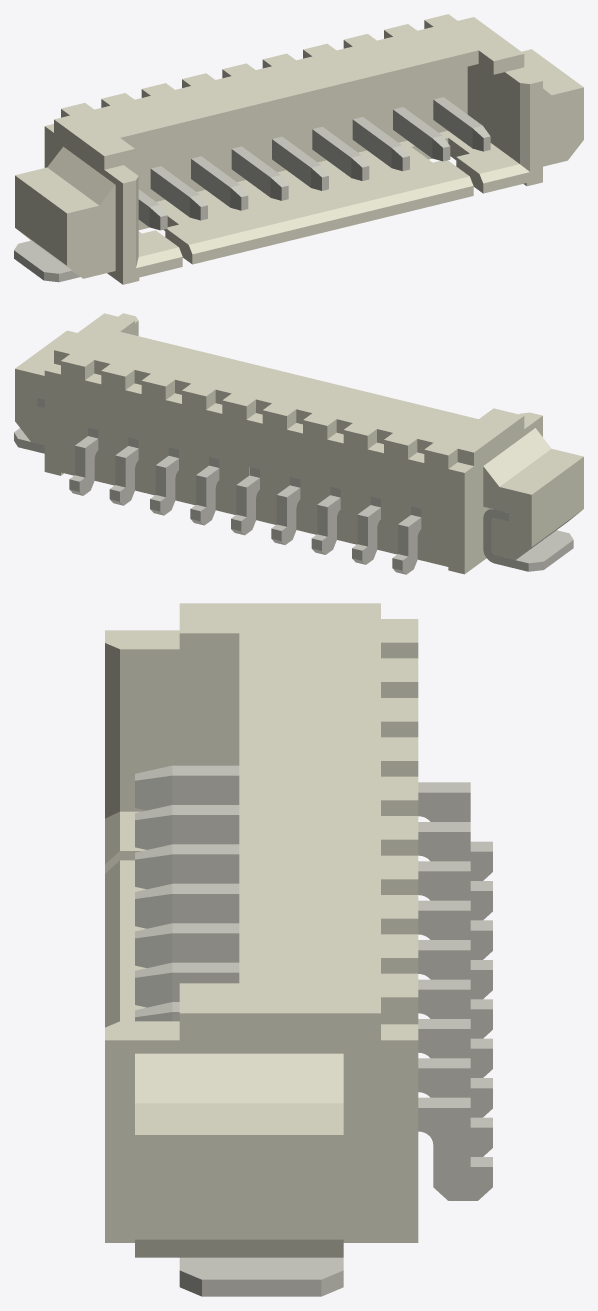
The model's file is kc-molex_picoblade_53261-0971_1x09-1mp_p1.25mm_horizontal.glb.
The picture shows the model from 3 angles, top to bottom: view 1: azimuth 30°, elevation 25°; view 2: azimuth 150°, elevation 25°; view 3: azimuth 270°, elevation 25°; orthographic projection. The views are drawn at different scales.
Parts seen in each view (by area): view 1: 0.75_0.75_0.5833333333333334_0, 0.6666666666666666_0.6666666666666666_0.5833333333333334_0.8; view 2: 0.75_0.75_0.5833333333333334_0, 0.6666666666666666_0.6666666666666666_0.5833333333333334_0.8; view 3: 0.75_0.75_0.5833333333333334_0, 0.6666666666666666_0.6666666666666666_0.5833333333333334_0.8.
Boxes of the visible parts, box(x1,y1,x2,y2) form: 0.75_0.75_0.5833333333333334_0: box(15, 14, 583, 284); 0.6666666666666666_0.6666666666666666_0.5833333333333334_0.8: box(14, 97, 490, 282); 0.75_0.75_0.5833333333333334_0: box(15, 313, 583, 574); 0.6666666666666666_0.6666666666666666_0.5833333333333334_0.8: box(14, 398, 573, 574); 0.75_0.75_0.5833333333333334_0: box(105, 603, 418, 1257); 0.6666666666666666_0.6666666666666666_0.5833333333333334_0.8: box(135, 765, 492, 1296).
Size of the model in its own units: 1.64 by 0.3401 by 0.52.
